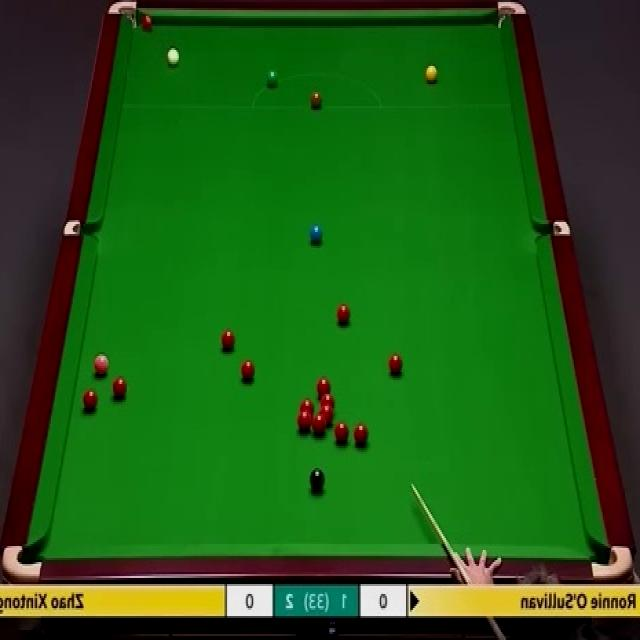black-ball: (309, 466, 325, 496)
blue-ball: (308, 224, 324, 246)
brown-ball: (310, 90, 323, 110)
green-ball: (266, 69, 279, 89)
pink-ball: (93, 352, 109, 378)
red-ball: (333, 420, 350, 448), (387, 352, 404, 379), (110, 376, 126, 401), (81, 389, 98, 412), (354, 422, 370, 446), (297, 410, 312, 435), (241, 359, 256, 384), (220, 328, 235, 352), (336, 304, 351, 326), (312, 413, 326, 435), (316, 377, 332, 394), (320, 406, 334, 424), (320, 392, 334, 408), (141, 15, 153, 31), (300, 401, 314, 414)
white-ball: (164, 43, 181, 73)
yellow-ball: (424, 65, 437, 86)
